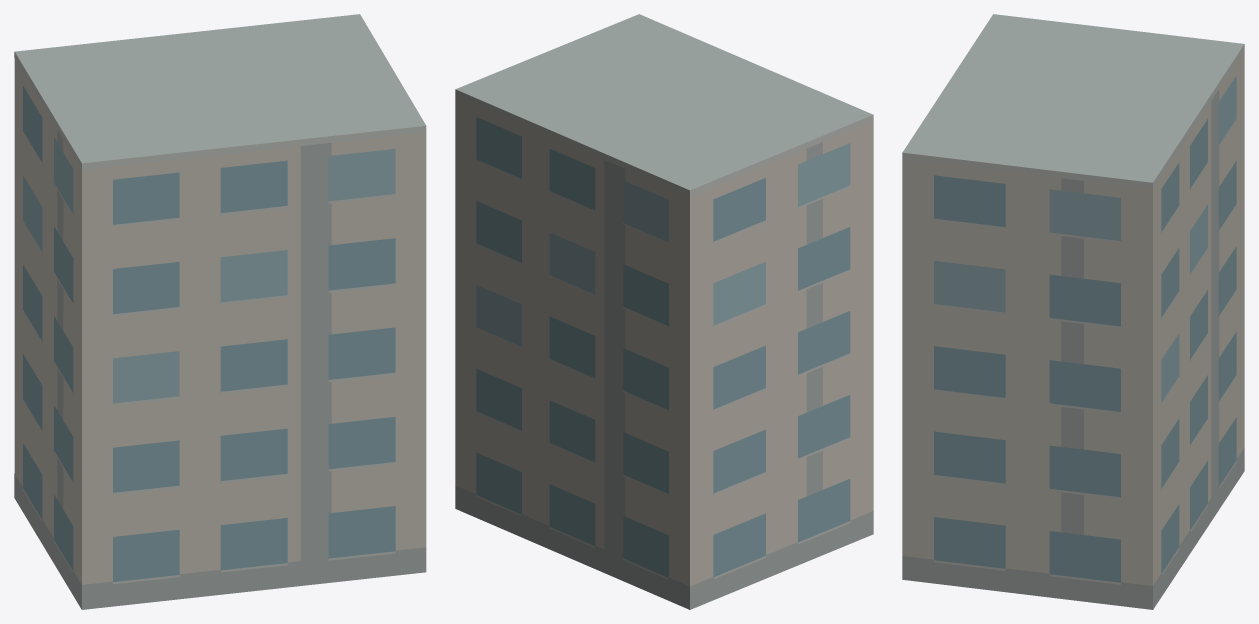
File: survey-upis-32868354.glb
The picture shows the model from 3 angles, left to right: view 1: azimuth 30°, elevation 25°; view 2: azimuth 150°, elevation 25°; view 3: azimuth 270°, elevation 25°; orthographic projection. The views are drawn at different scales.
Visible parts, largest first — view 1: survey-upis-32868354.tmp; view 2: survey-upis-32868354.tmp; view 3: survey-upis-32868354.tmp.
Boxes of the visible parts, box(x1,y1,x2,y2) form: survey-upis-32868354.tmp: box(14, 14, 426, 609); survey-upis-32868354.tmp: box(455, 14, 873, 609); survey-upis-32868354.tmp: box(902, 14, 1244, 609).
Bounding box in the file's own units: 13.74 × 16.2 × 11.77.
